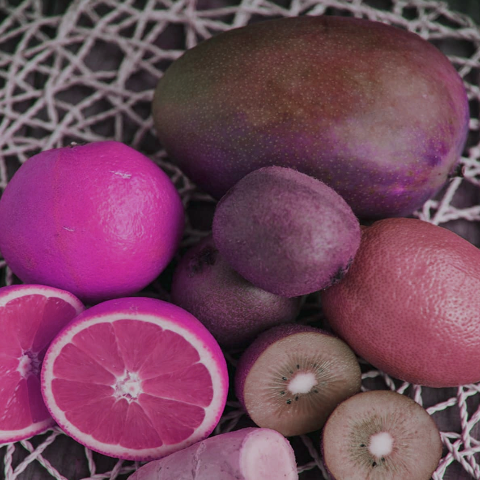kiwi: (117, 12, 480, 218), (213, 160, 359, 299)
orange: (0, 135, 190, 297)
